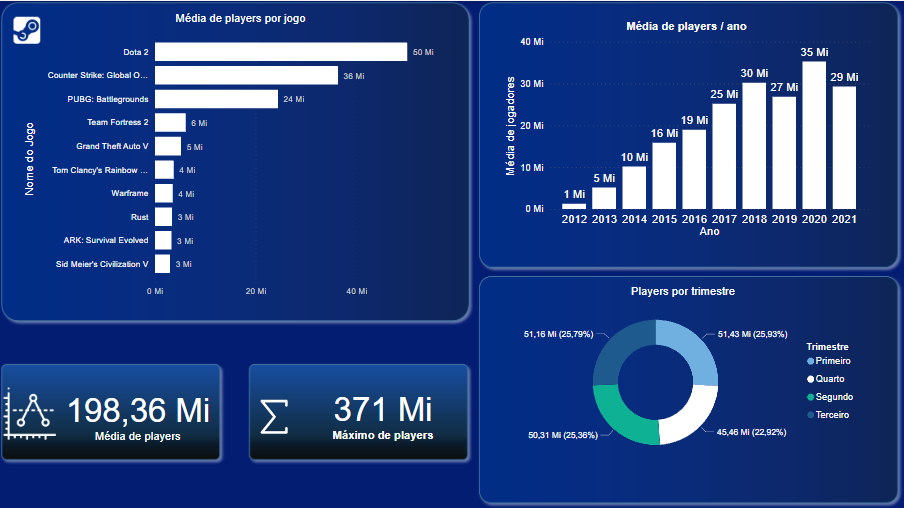

The dashboard page shown, as its layout file describes it:
{"tool":"powerbi","page":{"name":"Página 1","canvas":[1280,720],"ordinal":0},"visuals":[{"type":"clusteredColumnChart","title":"Média de players / ano","fields":{"Category":["steam.Ano"],"Y":["Sum(steam.Media_Players)"]},"box":[710.1,60.9,525.8,313.2],"z":0},{"type":"card","fields":{"Values":["Sum(steam.Pico_Players)"]},"box":[255.1,506,280.6,151.7],"z":1000},{"type":"textbox","box":[0,0,1279.8,36.9],"z":2000},{"type":"clusteredBarChart","title":"Média de players por jogo","fields":{"Category":["steam.Nome_Jogo"],"Y":["Sum(steam.Media_Players)"]},"box":[21.3,60.9,663.3,411],"z":3000},{"type":"image","box":[0,0,73.7,36.9],"z":4000},{"type":"donutChart","title":"Players por trimestre","fields":{"Category":["steam.Trimestre"],"Y":["Sum(steam.Media_Players)"]},"box":[720,423.8,515.9,233.9],"z":5000}]}

Visuals, with their boxes in screenshot pixels (x1, y1, x2, y2), scaled from the page's 1280x720 canvas onto the 904x508 screenshot:
"Média de players / ano" clusteredColumnChart: (x1=502, y1=43, x2=873, y2=264)
card - Sum(steam.Pico_Players): (x1=180, y1=357, x2=378, y2=464)
textbox: (x1=0, y1=0, x2=903, y2=26)
"Média de players por jogo" clusteredBarChart: (x1=15, y1=43, x2=483, y2=333)
image: (x1=0, y1=0, x2=52, y2=26)
"Players por trimestre" donutChart: (x1=509, y1=299, x2=873, y2=464)
